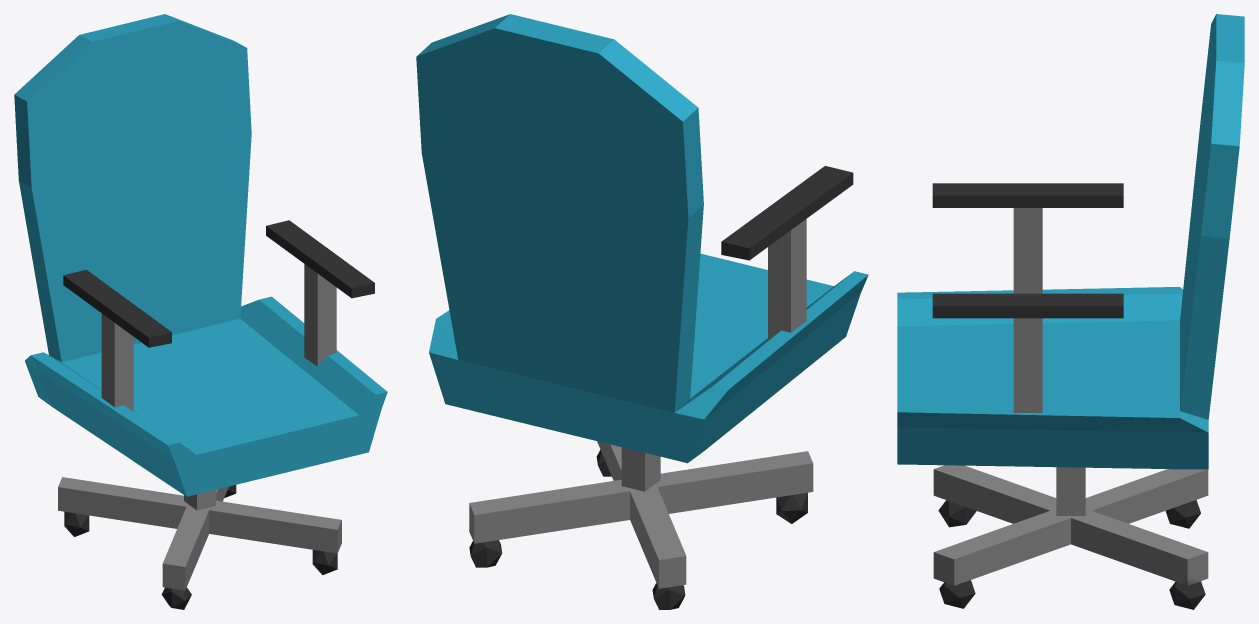
The model's file is Chair_Blue.fbx.
The picture shows the model from 3 angles, left to right: view 1: azimuth 30°, elevation 25°; view 2: azimuth 150°, elevation 25°; view 3: azimuth 270°, elevation 25°; orthographic projection. The views are drawn at different scales.
Visible parts, largest first — view 1: Chair_Blue; view 2: Chair_Blue; view 3: Chair_Blue.
Part boxes in pixels (x1,y1,x2,y2): Chair_Blue: (14, 14, 387, 609); Chair_Blue: (416, 14, 868, 609); Chair_Blue: (897, 14, 1244, 609).
Size of the model in its own units: 52.6 by 98.72 by 58.86.
1 material, 1 textured.
